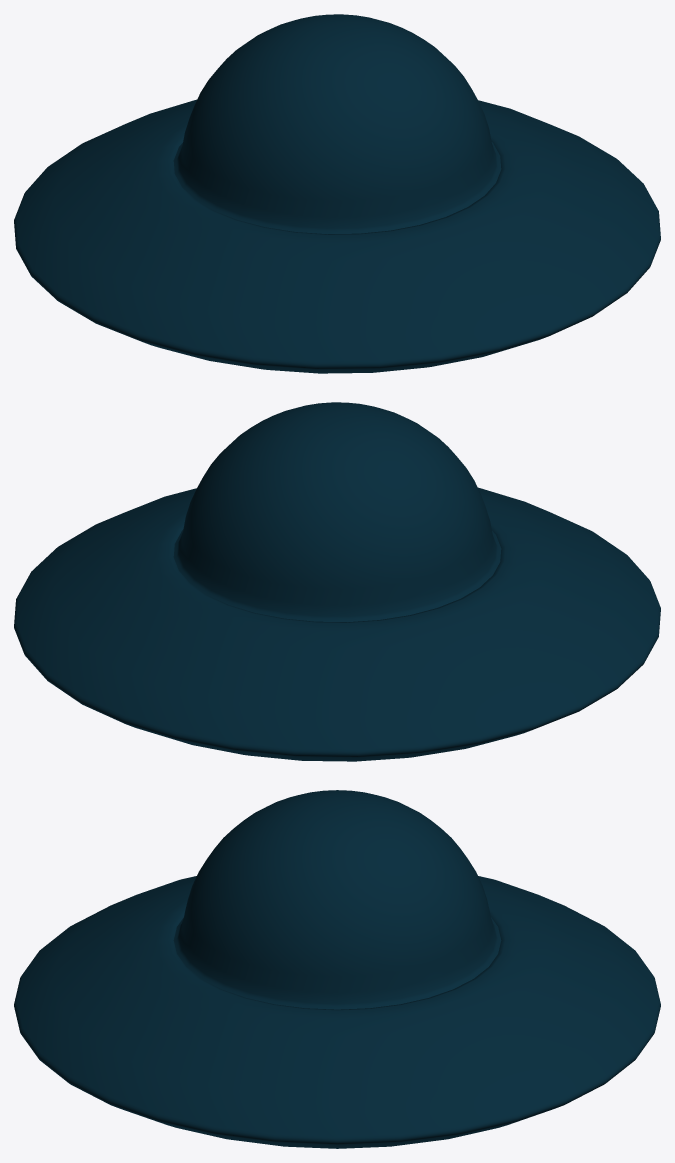
Rendered from ufo.fbx.
The picture shows the model from 3 angles, top to bottom: view 1: azimuth 30°, elevation 25°; view 2: azimuth 150°, elevation 25°; view 3: azimuth 270°, elevation 25°; orthographic projection.
Parts seen in each view (by area): view 1: ufo, glassdome; view 2: ufo, glassdome; view 3: ufo, glassdome.
Part boxes in pixels (bbox=[...]): ufo: bbox=[14, 99, 660, 373]; glassdome: bbox=[173, 14, 501, 234]; ufo: bbox=[14, 487, 660, 761]; glassdome: bbox=[173, 402, 501, 622]; ufo: bbox=[14, 876, 660, 1148]; glassdome: bbox=[173, 790, 501, 1009].
Size of the model in its own units: 901 by 405 by 901.
